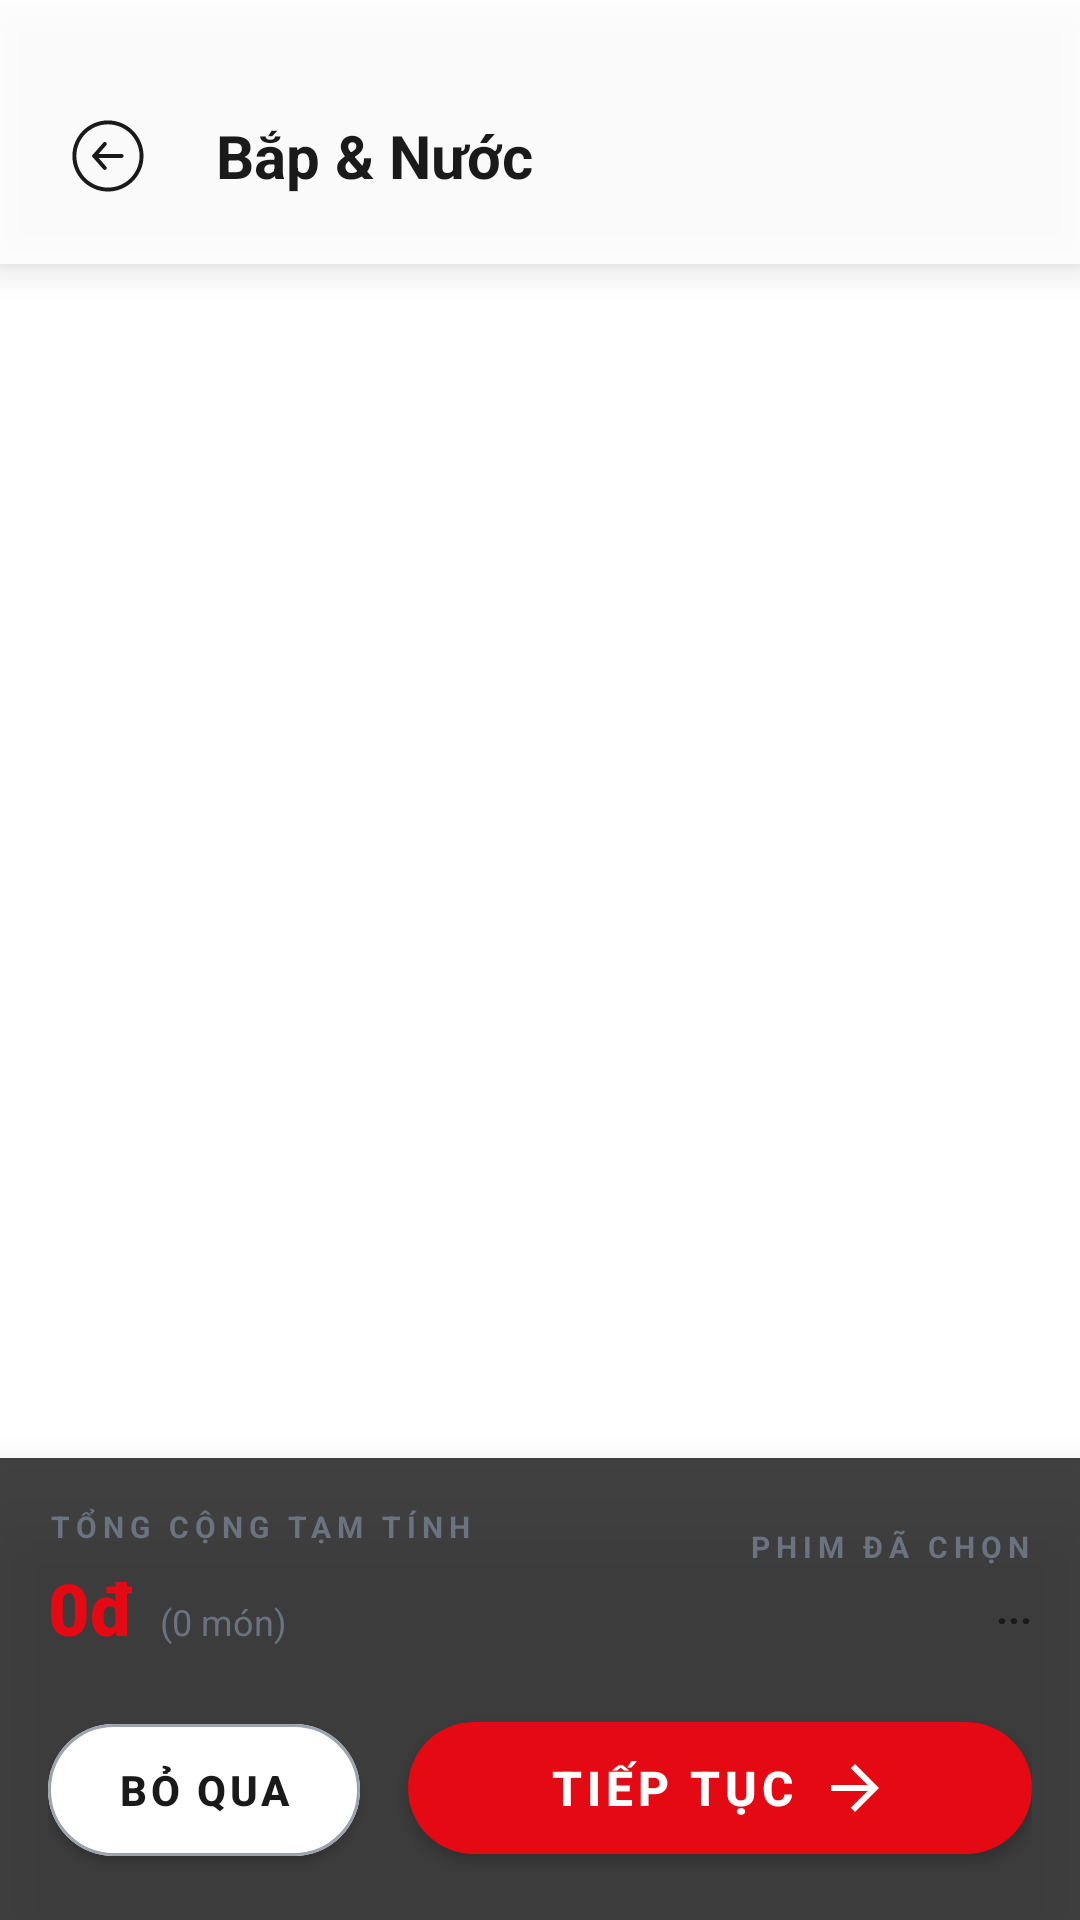

Icons on this 1080*1920 Android screen, each with its box as (x1,y1,x2,y2):
back: (72,120,144,192)
